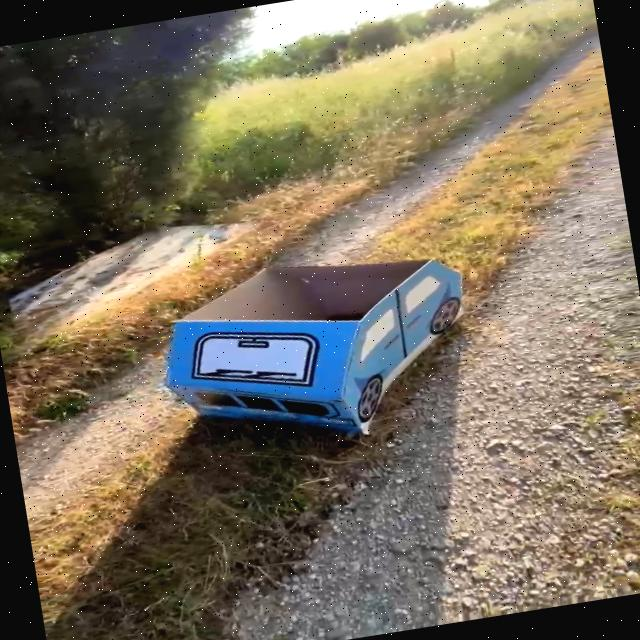blue_car: (133, 220, 518, 461)
